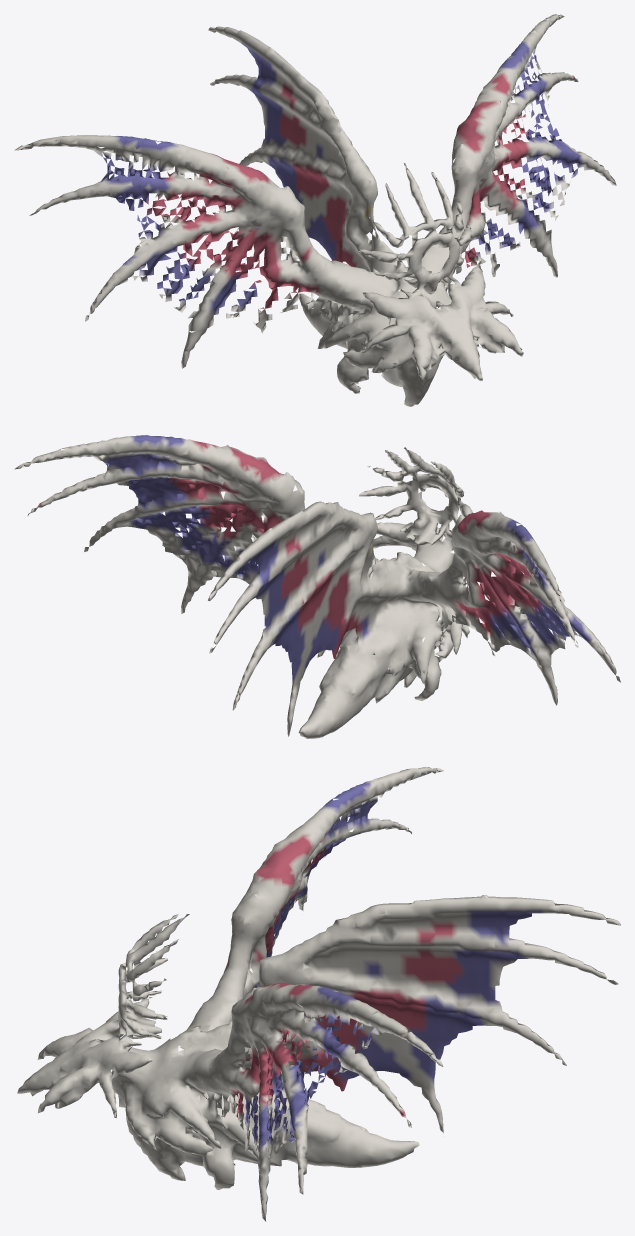
The model's file is drg3d.glb.
3 renders of one model, top to bottom at view 1: azimuth 30°, elevation 25°; view 2: azimuth 150°, elevation 25°; view 3: azimuth 270°, elevation 25°, orthographic. The views are drawn at different scales.
Bounding box in the file's own units: 1.94 × 0.8677 × 1.67.
